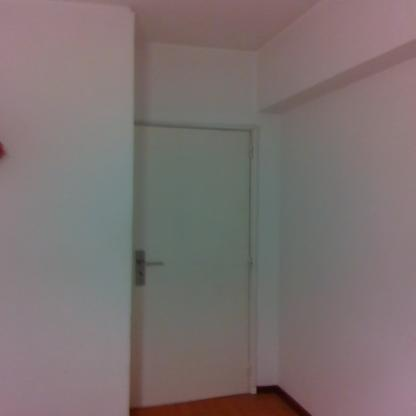closed: (124, 116, 270, 410)
